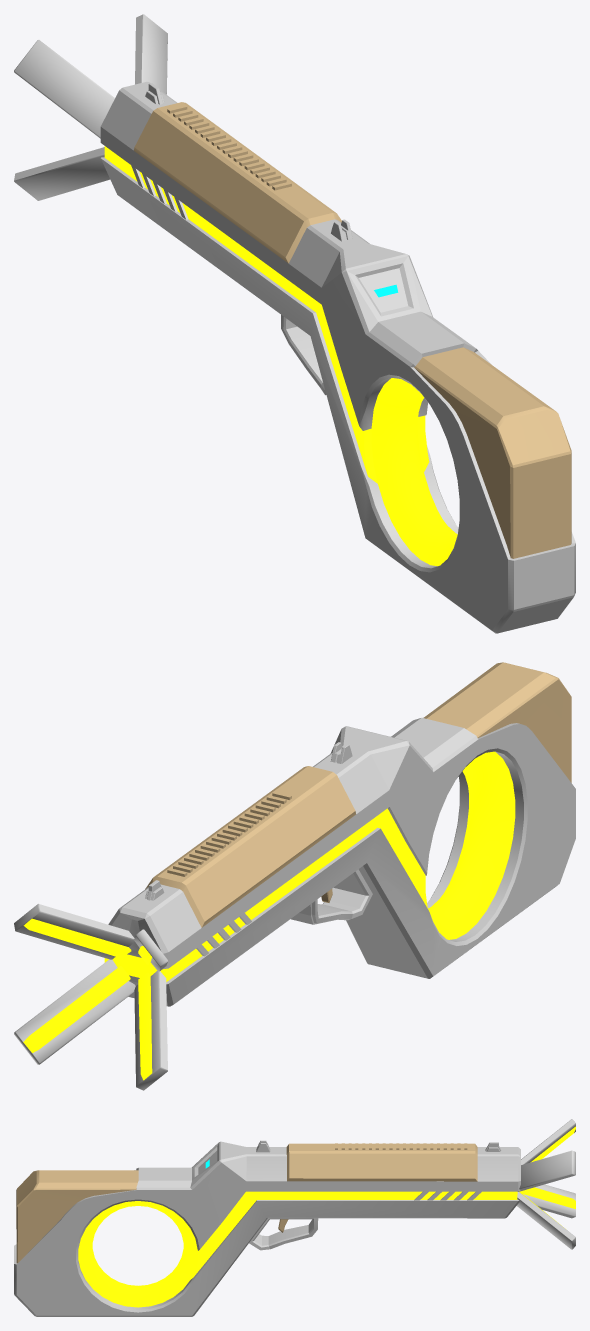
File: GrappleGun OLD.fbx
The picture shows the model from 3 angles, top to bottom: view 1: azimuth 30°, elevation 25°; view 2: azimuth 150°, elevation 25°; view 3: azimuth 270°, elevation 25°; orthographic projection. The views are drawn at different scales.
Visible parts, largest first — view 1: GrappleGun.001, Rotary_Section.001, u.l.001, b.l.001, u.r.001; view 2: GrappleGun.001, Rotary_Section.001, b.r.001, u.r.001, b.l.001, u.l.001; view 3: GrappleGun.001, Rotary_Section.001, u.r.001, b.l.001, b.r.001, u.l.001.
Part boxes in pixels (bbox=[...]): GrappleGun.001: bbox=[100, 81, 575, 633]; Rotary_Section.001: bbox=[371, 378, 457, 566]; u.l.001: bbox=[14, 40, 114, 138]; b.l.001: bbox=[14, 147, 110, 200]; u.r.001: bbox=[135, 14, 167, 94]; GrappleGun.001: bbox=[104, 662, 575, 1006]; Rotary_Section.001: bbox=[428, 751, 515, 939]; b.r.001: bbox=[14, 959, 135, 1064]; u.r.001: bbox=[14, 904, 134, 959]; b.l.001: bbox=[134, 971, 167, 1090]; u.l.001: bbox=[134, 929, 167, 971]; GrappleGun.001: bbox=[14, 1140, 520, 1316]; Rotary_Section.001: bbox=[78, 1201, 197, 1307]; u.r.001: bbox=[518, 1150, 575, 1191]; b.l.001: bbox=[520, 1184, 575, 1218]; b.r.001: bbox=[516, 1191, 575, 1249]; u.l.001: bbox=[521, 1119, 575, 1164].
Bounding box in the file's own units: 39.65 × 69.11 × 204.
